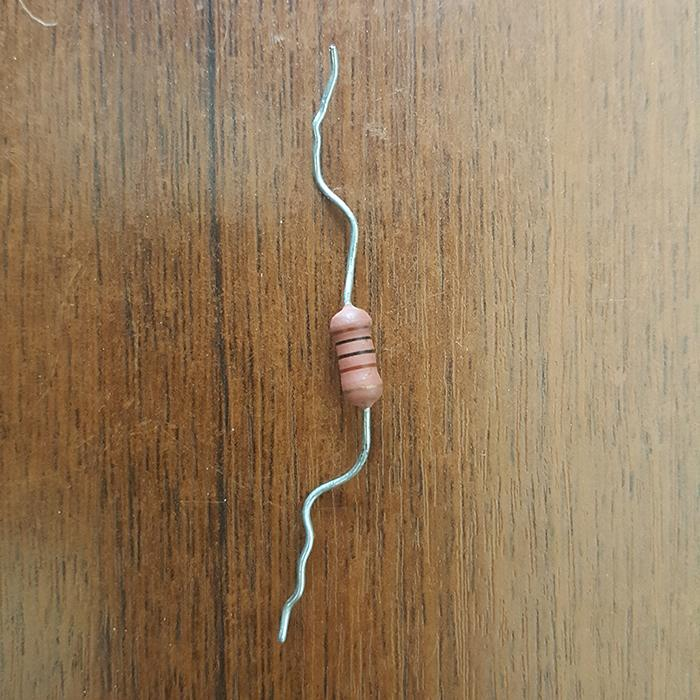resistor: (329, 303, 383, 407)
